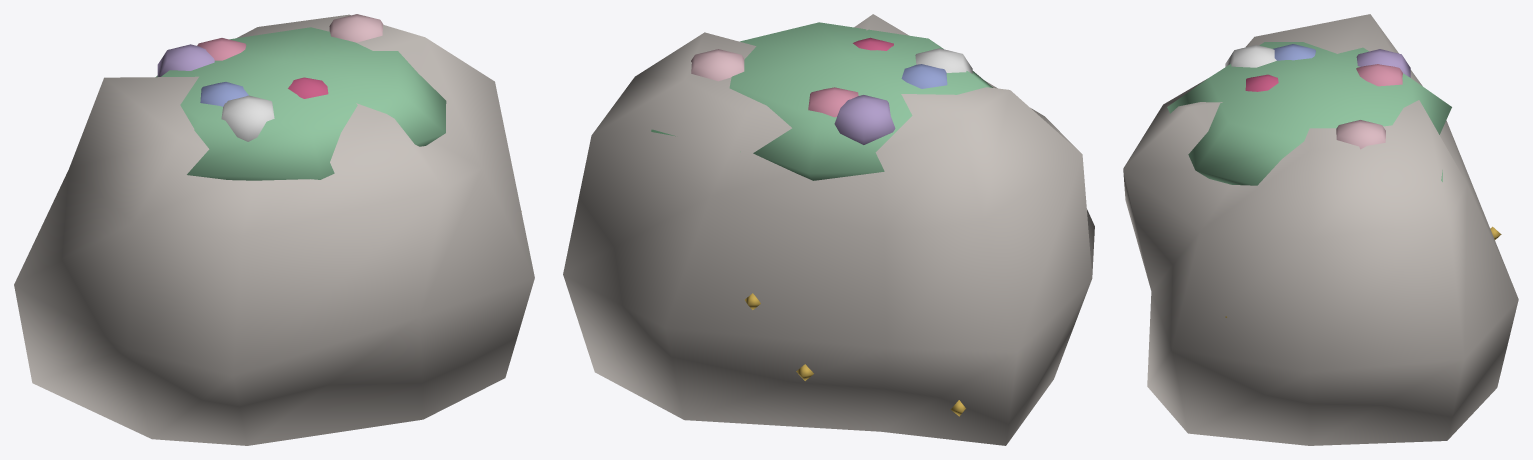
File: rock_mossy_c.gltf
The picture shows the model from 3 angles, left to right: view 1: azimuth 30°, elevation 25°; view 2: azimuth 150°, elevation 25°; view 3: azimuth 270°, elevation 25°; orthographic projection. The views are drawn at different scales.
Parts seen in each view (by area): view 1: rock_mossy_c; view 2: rock_mossy_c; view 3: rock_mossy_c.
Boxes of the visible parts, x1,y1,x2,y2 form: rock_mossy_c: (14, 14, 534, 445); rock_mossy_c: (563, 14, 1094, 445); rock_mossy_c: (1123, 14, 1518, 445).
Size of what is drawn, in the model's own units: 2.4 by 1.58 by 1.96.
